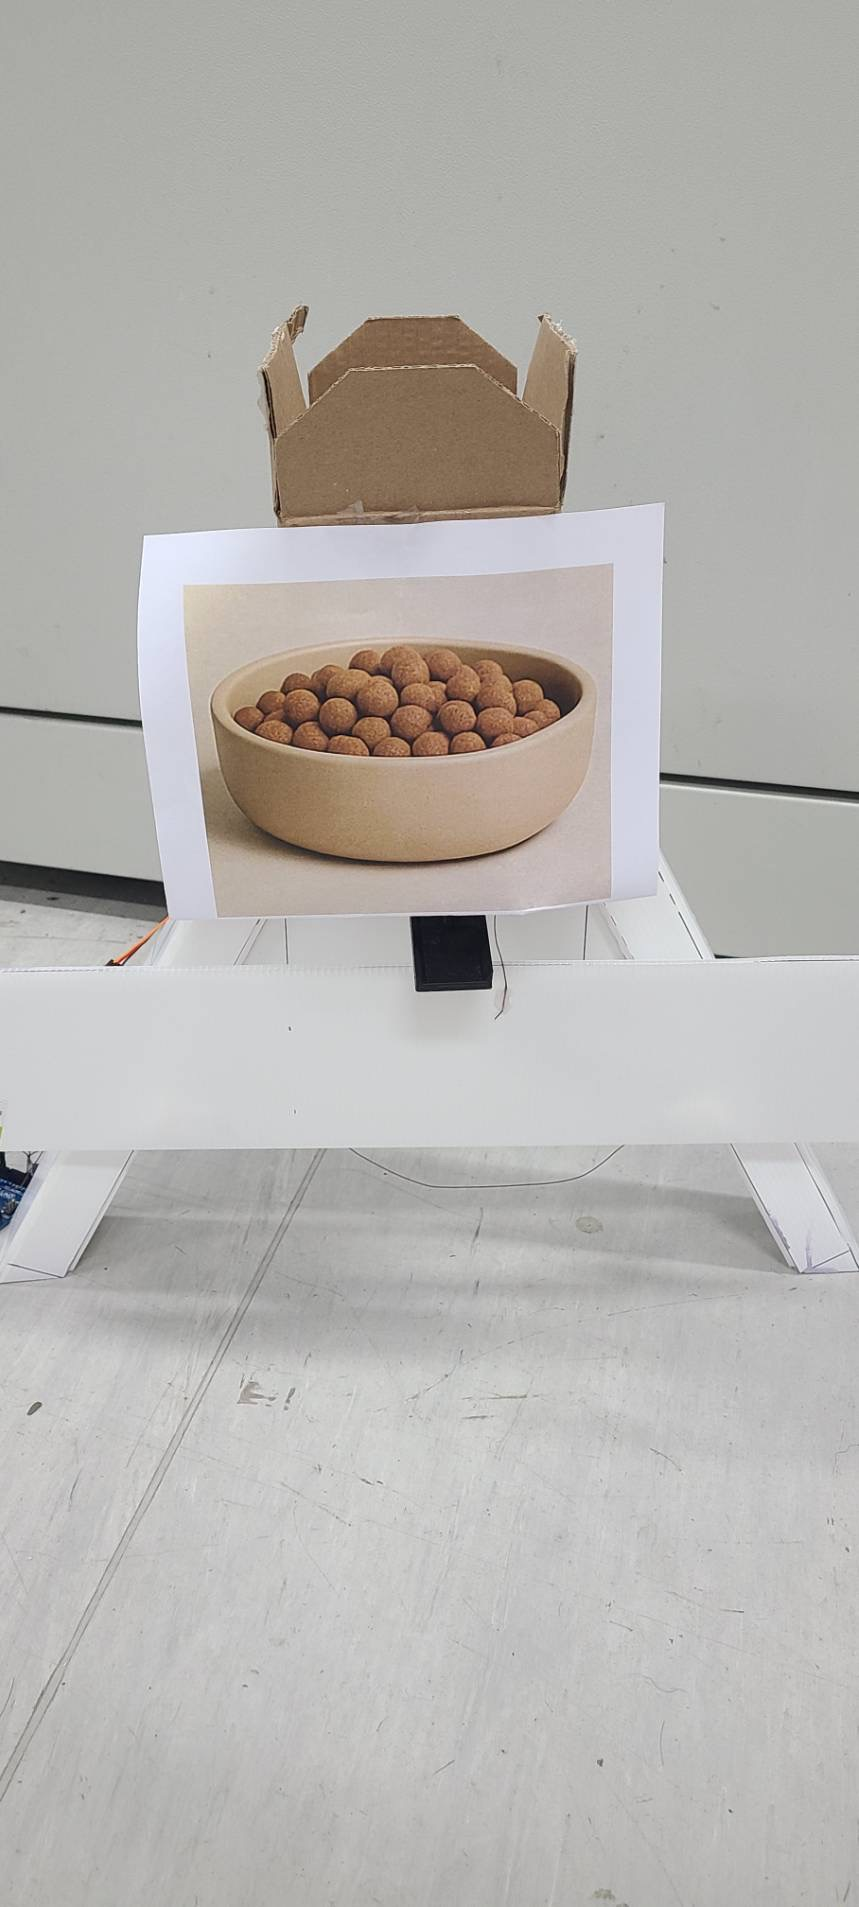machine: (204, 645, 596, 857)
